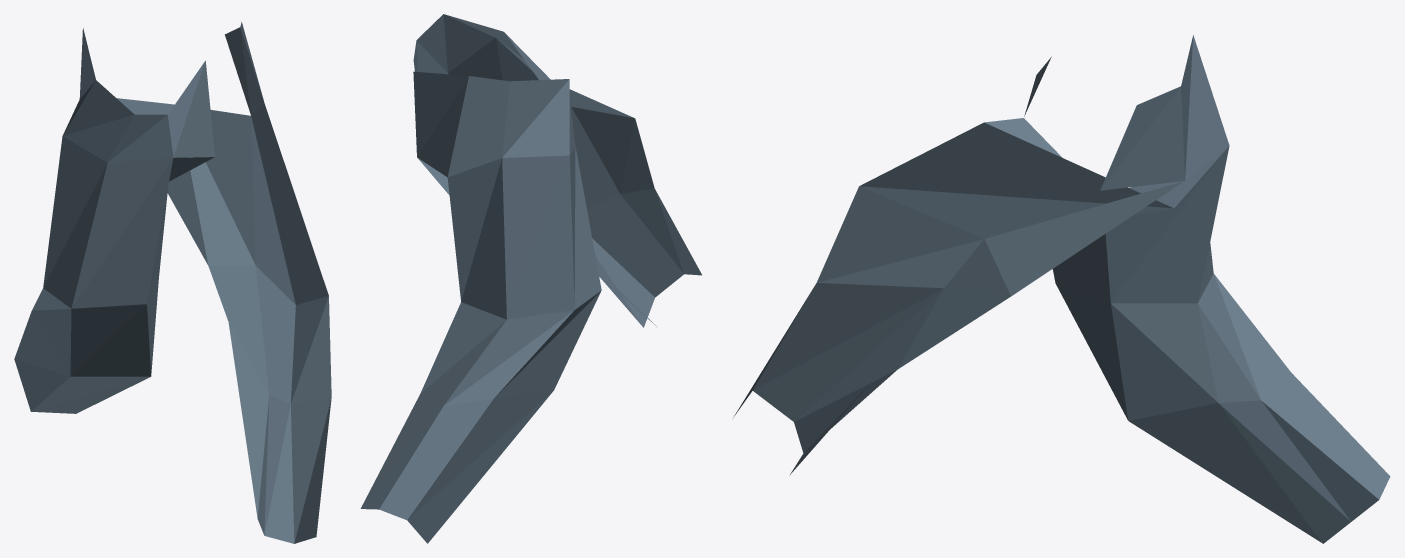
3 renders of one model, left to right at view 1: azimuth 30°, elevation 25°; view 2: azimuth 150°, elevation 25°; view 3: azimuth 270°, elevation 25°, orthographic. The views are drawn at different scales.
Size of the model in its own units: 0.4723 by 1.11 by 1.3.
1 material, 1 textured.
